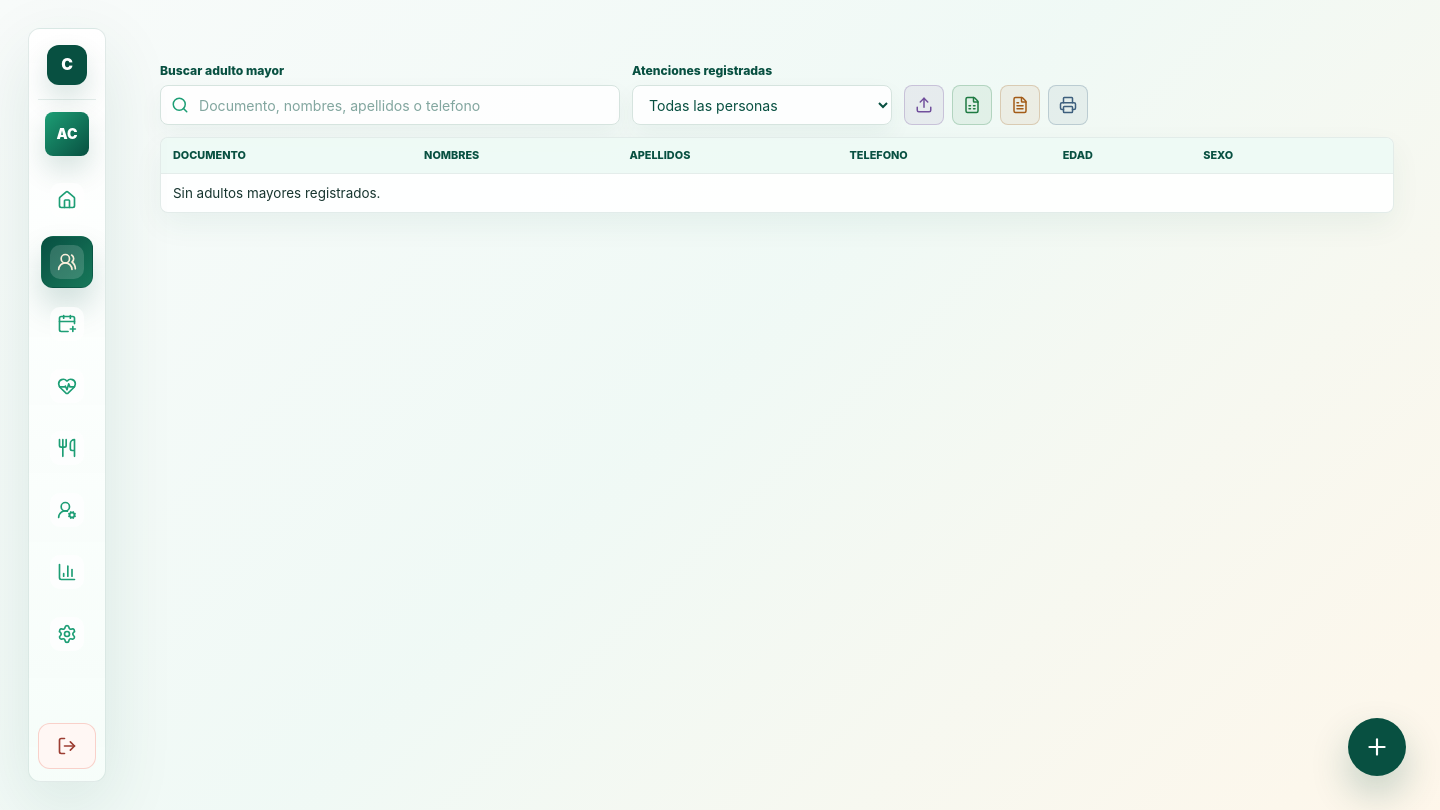
App adultos mayores flow › filters adults by registered attention type
The image size is (1440, 810).
Select "Con atención médica" in the dropdown labelled "Atenciones registradas": coordinates (762, 105) [632, 85, 892, 125]
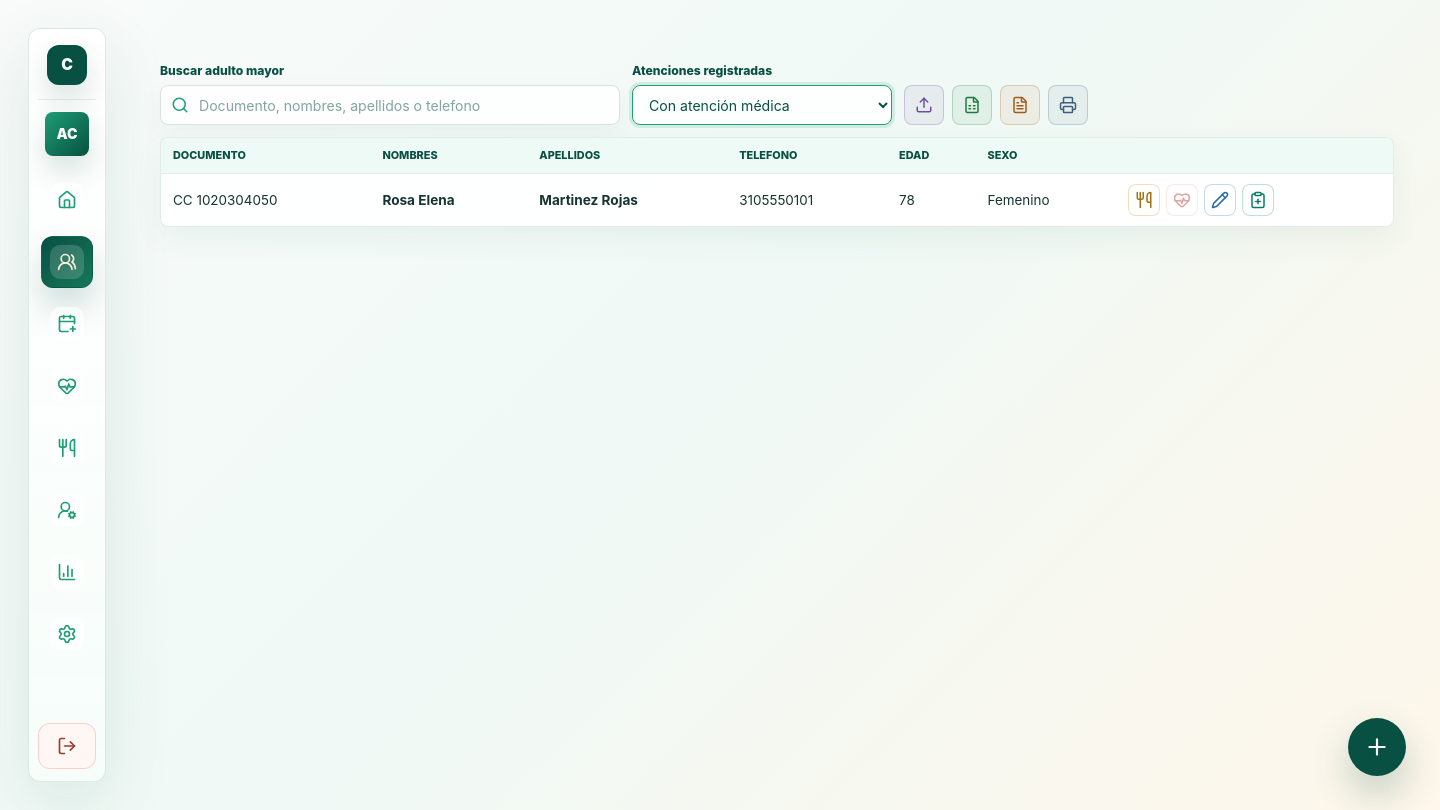
Check: the text "Rosa Elena" is shown, box [382, 192, 455, 208]
Click the button named "Historia médica de Rosa Elena Martinez Rojas": coordinates (1258, 200) [1242, 184, 1274, 216]
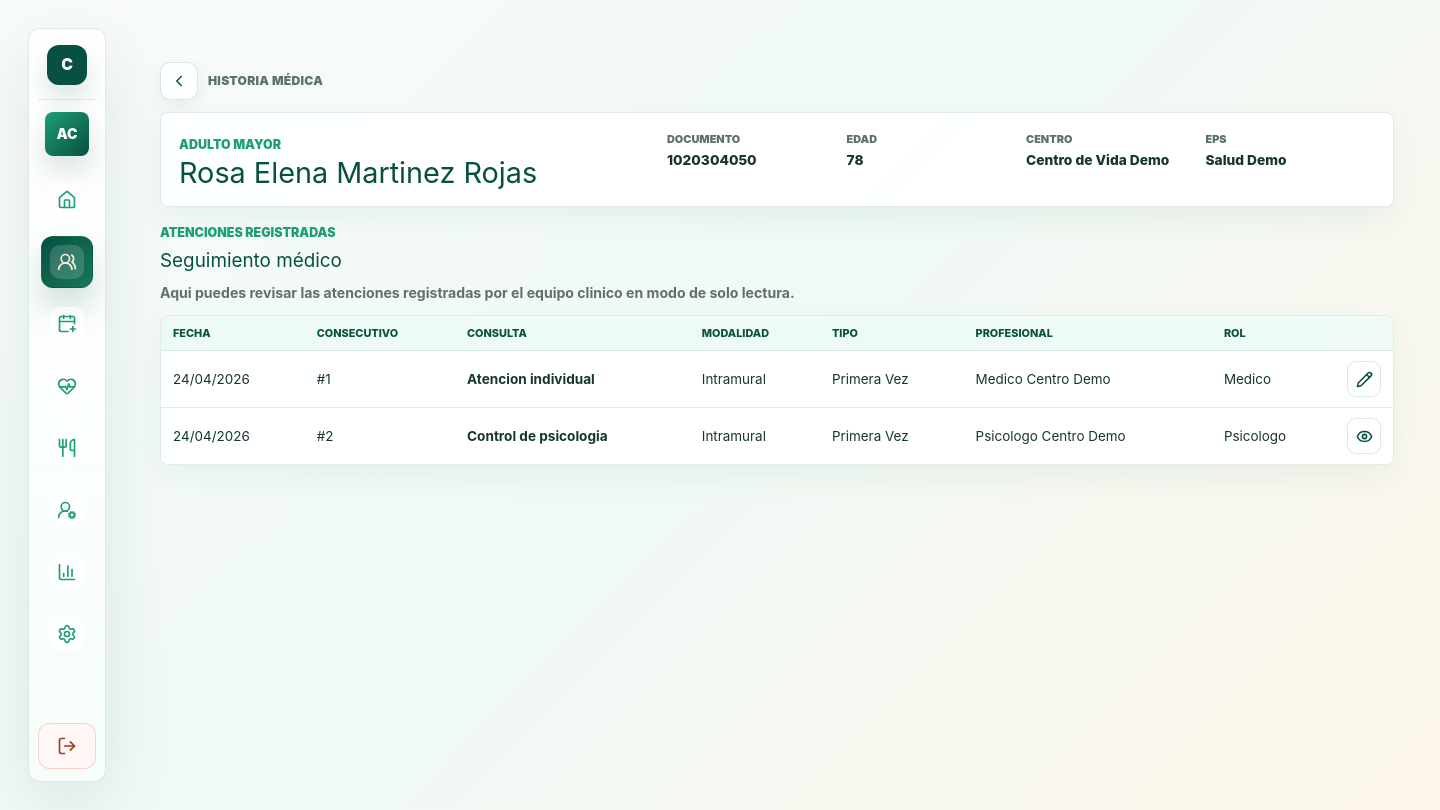
Check: the heading "Seguimiento médico" is shown, box [160, 249, 342, 272]
